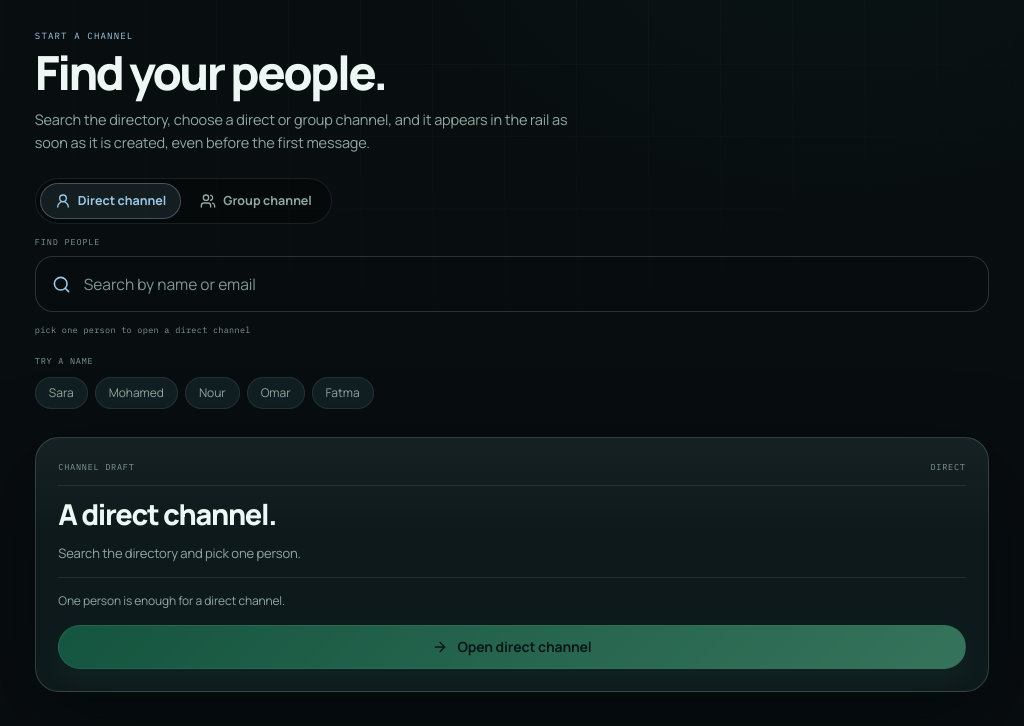
Test: New conversation page › keeps AI teammates out of groups and allows a direct bot thread
The image size is (1024, 726).
Click the button "Group channel".
click(256, 202)  # box [185,184,327,220]
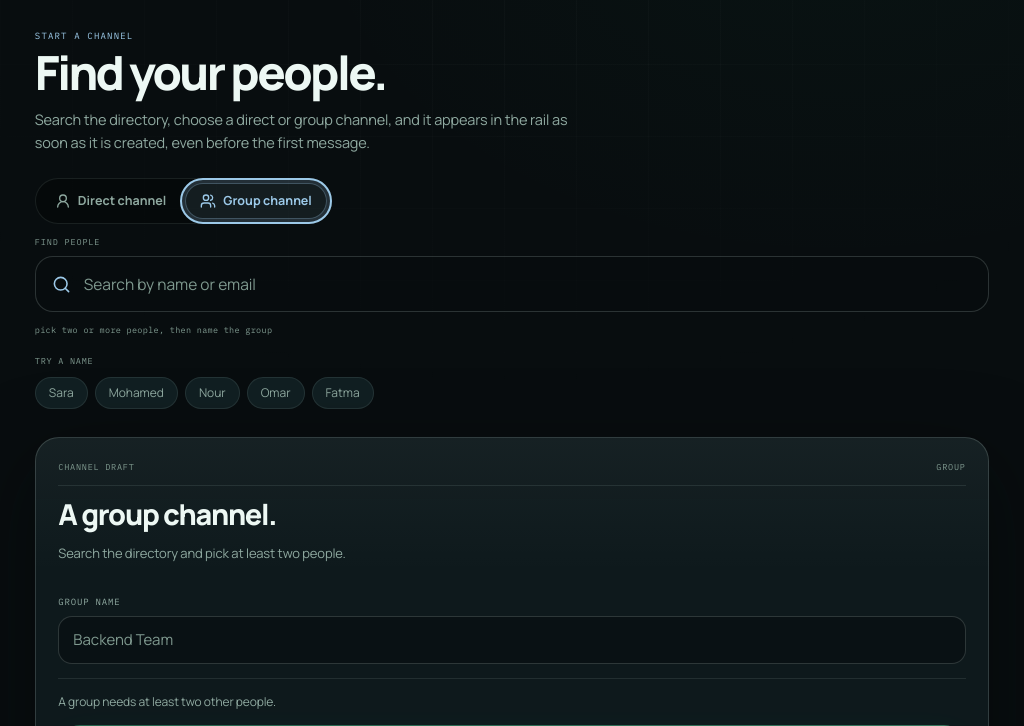
Type "Ada" into the search field with placeholder "Search by name or email".
click(527, 284); type("Ada")  # box [82,257,972,311]
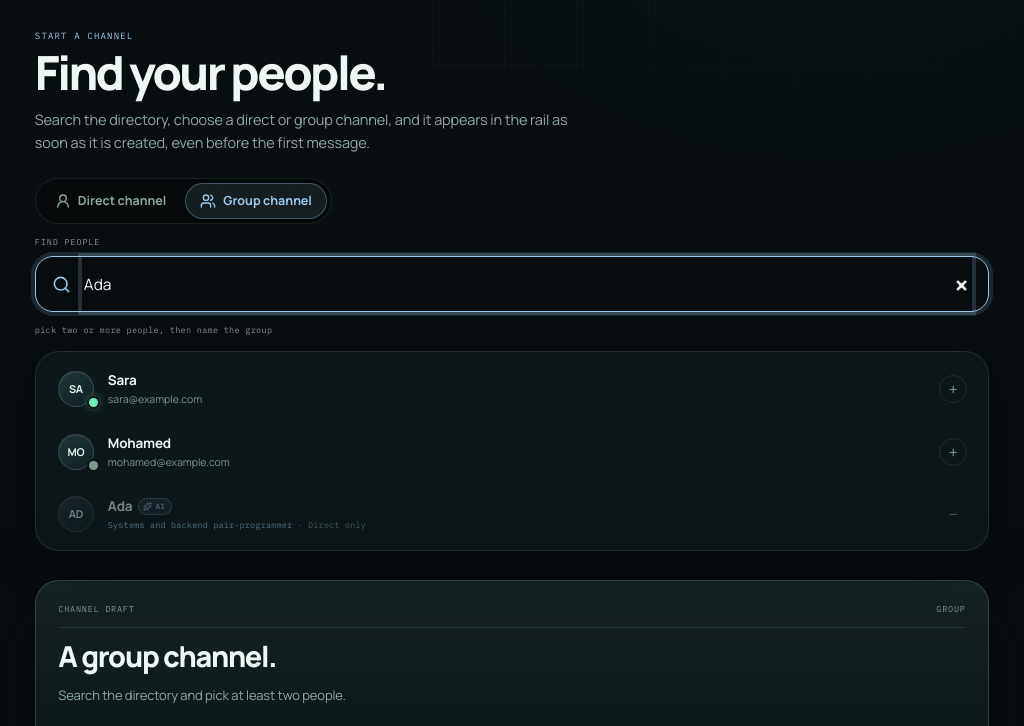
Now the element named "Search results" is shown, box [35,351,989,551]
Now the button "Ada" is disabled, box [43,485,981,543]
Now the text "· Direct only" is shown, box [292,519,366,530]
Click the button "Direct channel".
click(111, 202)  # box [40,184,181,220]
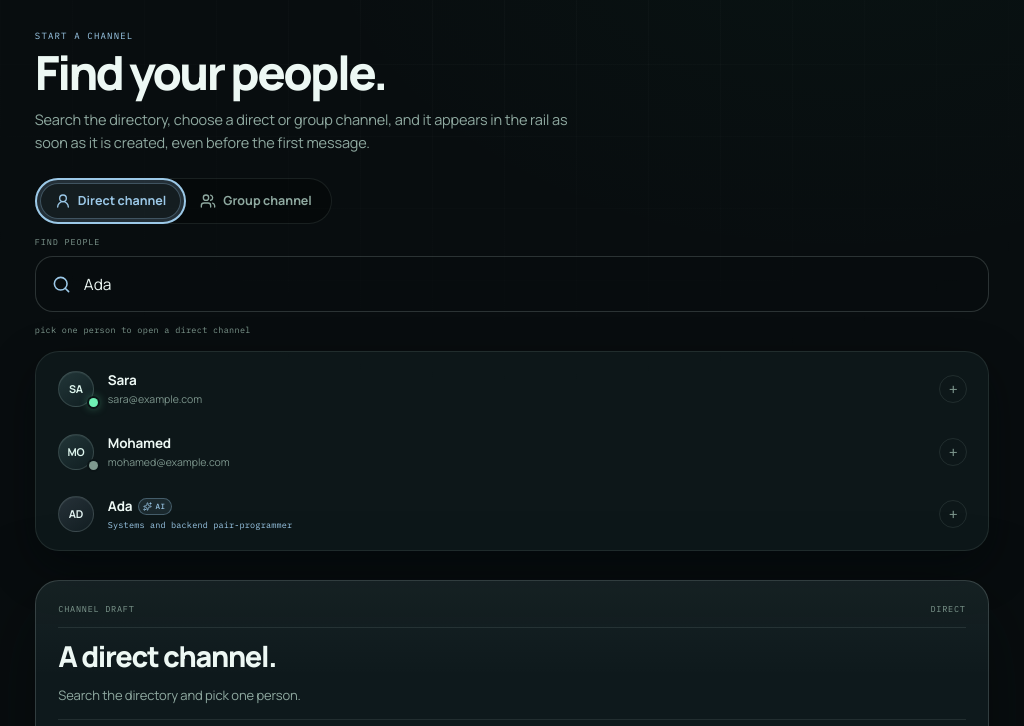
Now the button "AD Ada AI Systems and backend pair-programmer +" is enabled
Click the button "AD Ada AI Systems and backend pair-programmer +".
click(76, 514)  # box [43,485,981,543]
(page scrolled)
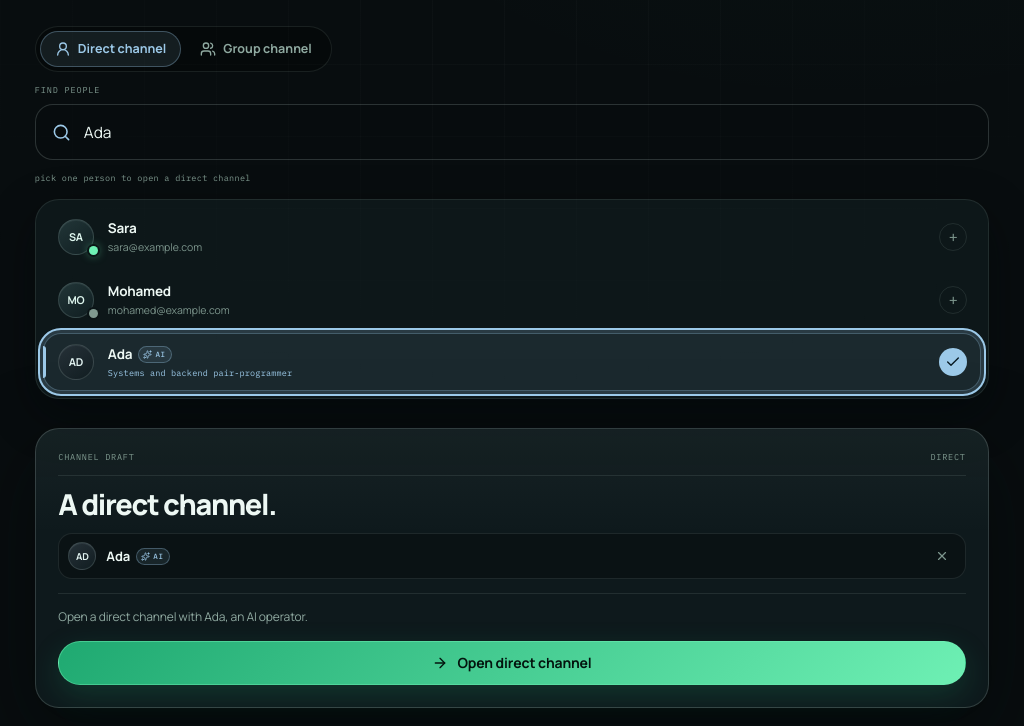
Now the text "Open a direct channel with Ada, an AI operator." is shown, box [58,608,308,625]
Now the button "Open direct channel" is enabled, box [58,641,966,685]
